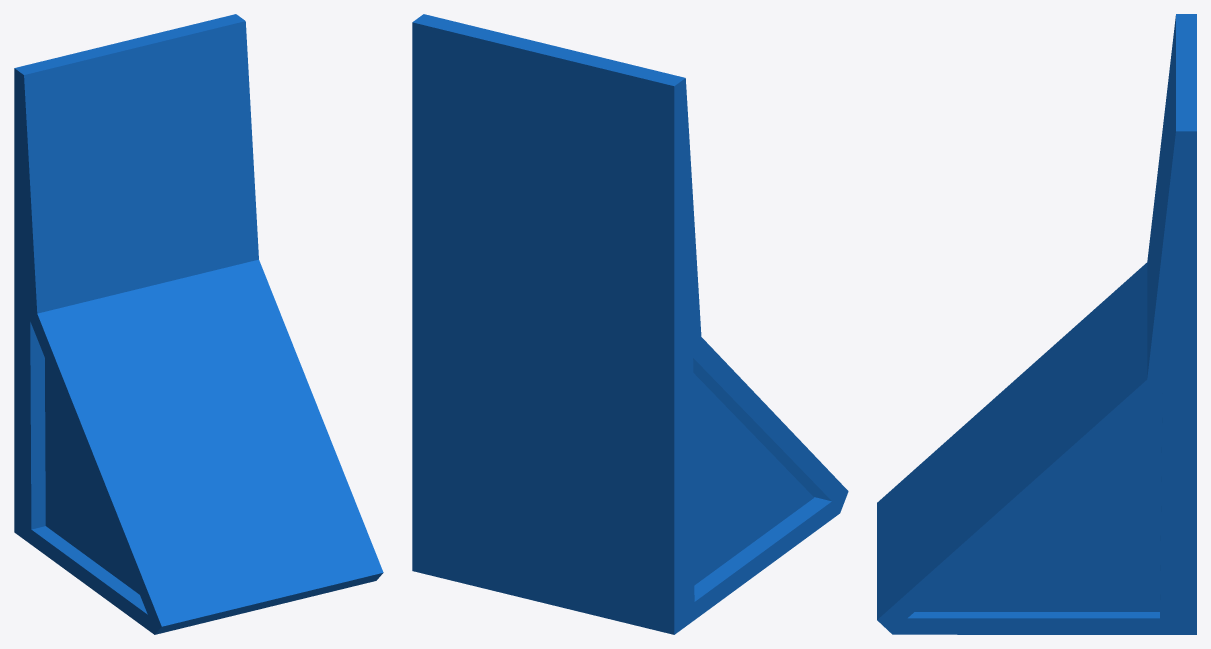
The model's file is T_wooden_triangle3.fbx.
The picture shows the model from 3 angles, left to right: view 1: azimuth 30°, elevation 25°; view 2: azimuth 150°, elevation 25°; view 3: azimuth 270°, elevation 25°; orthographic projection. The views are drawn at different scales.
Visible parts, largest first — view 1: wooden_triangle3; view 2: wooden_triangle3; view 3: wooden_triangle3.
Part boxes in pixels (x1,y1,x2,y2): wooden_triangle3: [14, 14, 383, 634]; wooden_triangle3: [412, 14, 848, 634]; wooden_triangle3: [877, 14, 1196, 634].
Bounding box in the file's own units: 100 × 207 × 115.
